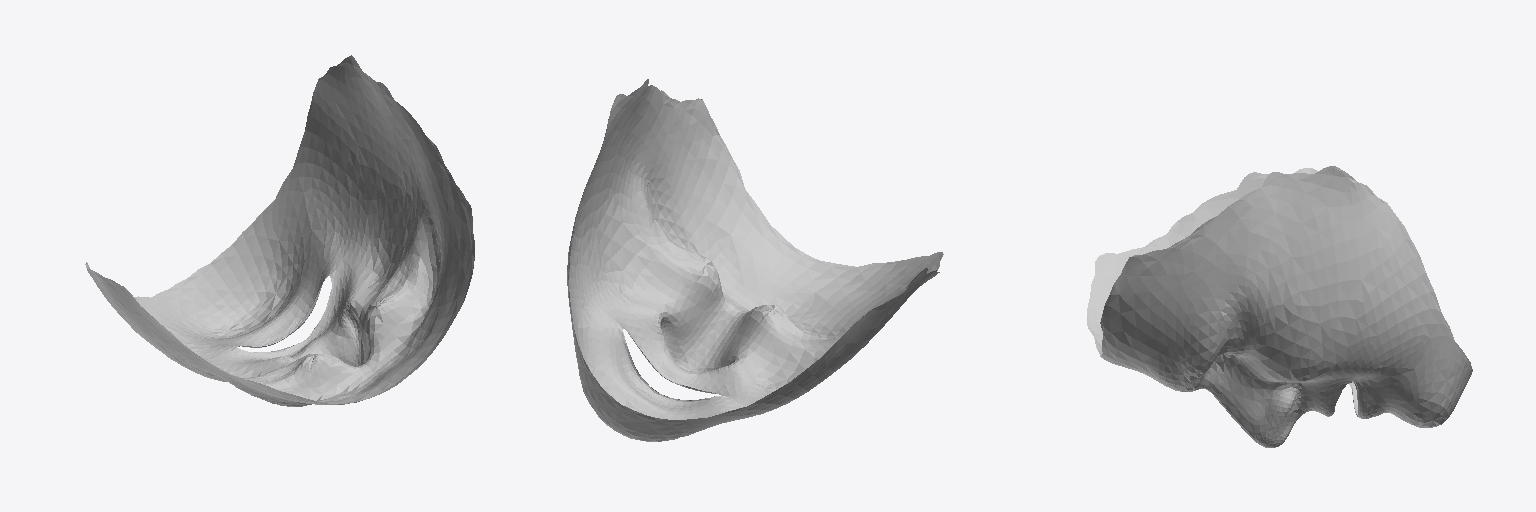
The model's file is face_gab_sfm28.obj.
3 views of the same model, side by side, from view 1: azimuth 30°, elevation 25°; view 2: azimuth 150°, elevation 25°; view 3: azimuth 270°, elevation 25° (orthographic).
Bounding box in the file's own units: 164 × 154 × 179.